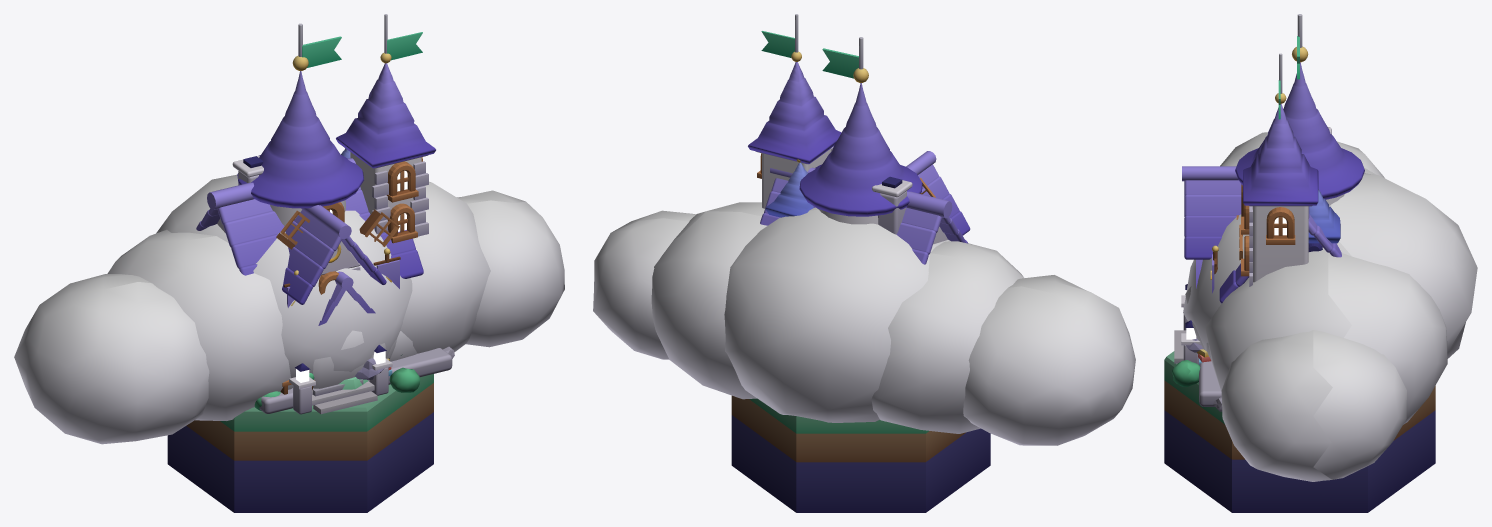
File: world.glb
3 renders of one model, left to right at view 1: azimuth 30°, elevation 25°; view 2: azimuth 150°, elevation 25°; view 3: azimuth 270°, elevation 25°, orthographic. The views are drawn at different scales.
Visible parts, largest first — view 1: cloud_mesh, castle_mesh, hex_mesh, towerA_mesh, cloudS_mesh, flag_mesh (×2), fan_mesh, church_mesh, archery_mesh; view 2: cloud_mesh, hex_mesh, castle_mesh, towerA_mesh, flag_mesh (×2), church_mesh; view 3: cloud_mesh, castle_mesh, hex_mesh, towerA_mesh, church_mesh.
Part boxes in pixels (x1,y1,x2,y2): cloud_mesh: [14, 174, 564, 444]; castle_mesh: [196, 14, 454, 414]; hex_mesh: [167, 374, 433, 512]; towerA_mesh: [237, 23, 363, 226]; cloudS_mesh: [313, 330, 417, 388]; flag_mesh (×2): [302, 32, 422, 67]; fan_mesh: [276, 209, 399, 249]; church_mesh: [280, 148, 392, 394]; archery_mesh: [283, 248, 400, 360]; cloud_mesh: [593, 202, 1135, 445]; hex_mesh: [731, 395, 990, 512]; castle_mesh: [748, 14, 970, 264]; towerA_mesh: [799, 37, 922, 224]; flag_mesh (×2): [761, 31, 858, 78]; church_mesh: [765, 159, 813, 217]; cloud_mesh: [1183, 132, 1477, 481]; castle_mesh: [1171, 53, 1341, 411]; hex_mesh: [1164, 351, 1435, 512]; towerA_mesh: [1235, 14, 1364, 219]; church_mesh: [1196, 189, 1340, 364].
Bounding box in the file's own units: 5.26 × 4.21 × 2.67.
